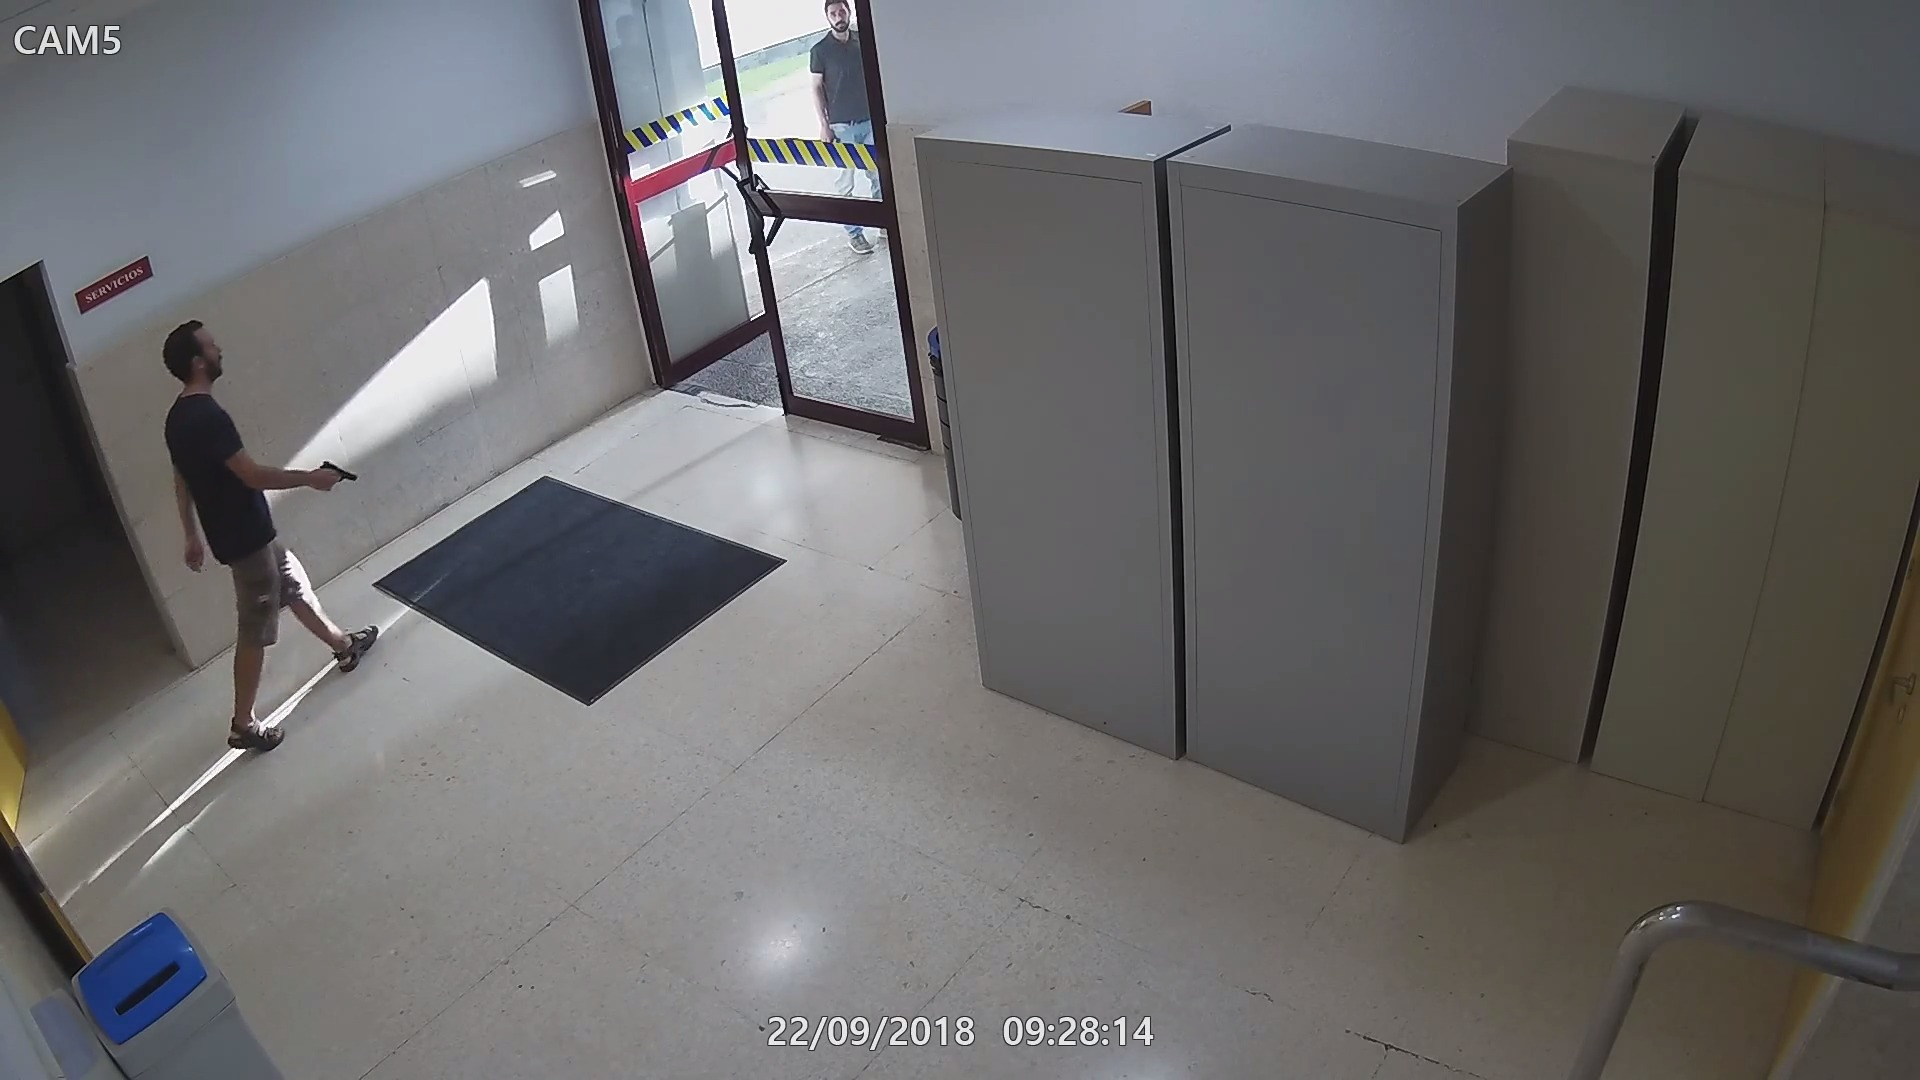Handgun: (309, 458, 357, 495)
